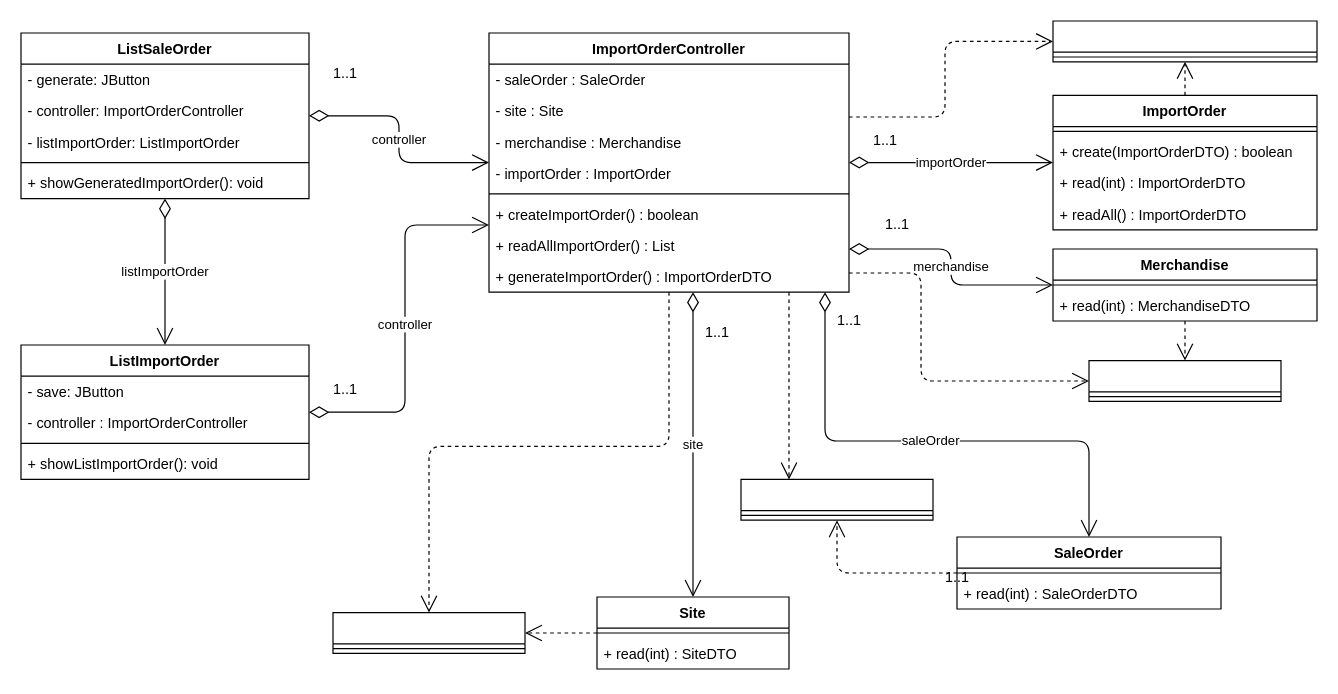
Image size: 1338x694. Some labels were removed from this diagram. The centre of each missing label's shape, as x and y in pixels:
"ImportOrderDTO" belongs at point 1184,41.
"MerchandiseDTO" belongs at point 1184,380.
"SaleOrderDTO" belongs at point 836,499.
"SiteDTO" belongs at point 428,632.
